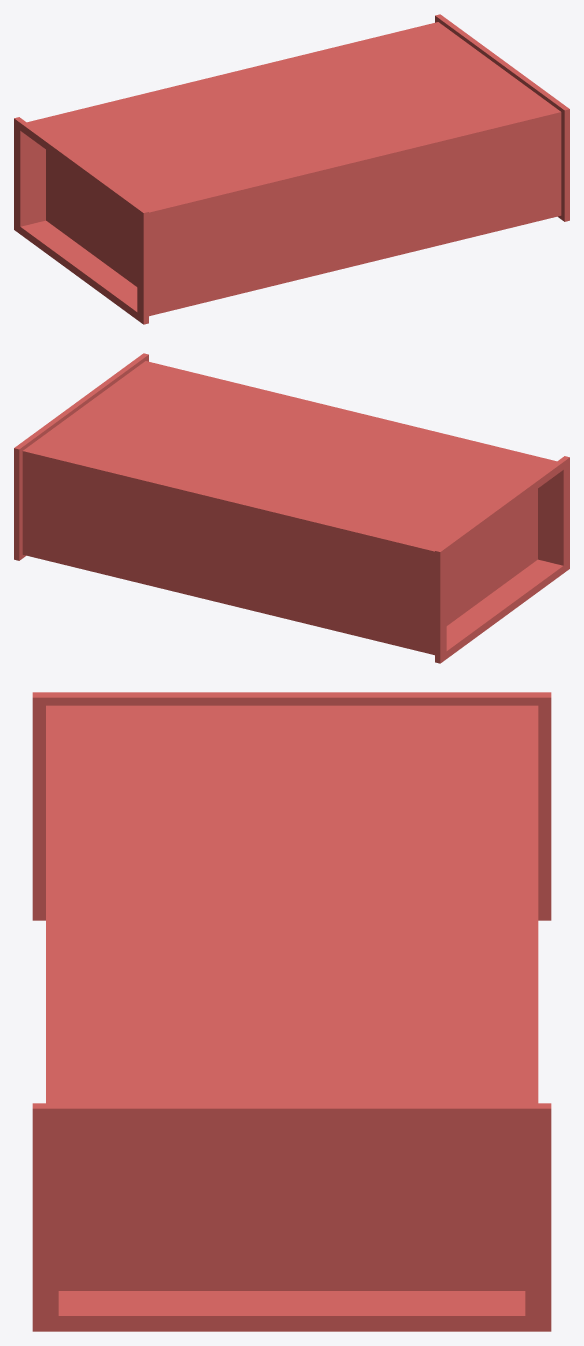
File: SM_PROP_VENT_01.fbx
3 views of the same model, one above another, from view 1: azimuth 30°, elevation 25°; view 2: azimuth 150°, elevation 25°; view 3: azimuth 270°, elevation 25° (orthographic). The views are drawn at different scales.
Visible parts, largest first — view 1: SM_PROP_VENT_01; view 2: SM_PROP_VENT_01; view 3: SM_PROP_VENT_01.
Part boxes in pixels (x1,y1,x2,y2): SM_PROP_VENT_01: (14, 14, 569, 324); SM_PROP_VENT_01: (14, 353, 569, 663); SM_PROP_VENT_01: (32, 692, 551, 1331).
Bounding box in the file's own units: 2 × 0.5 × 1.05.
